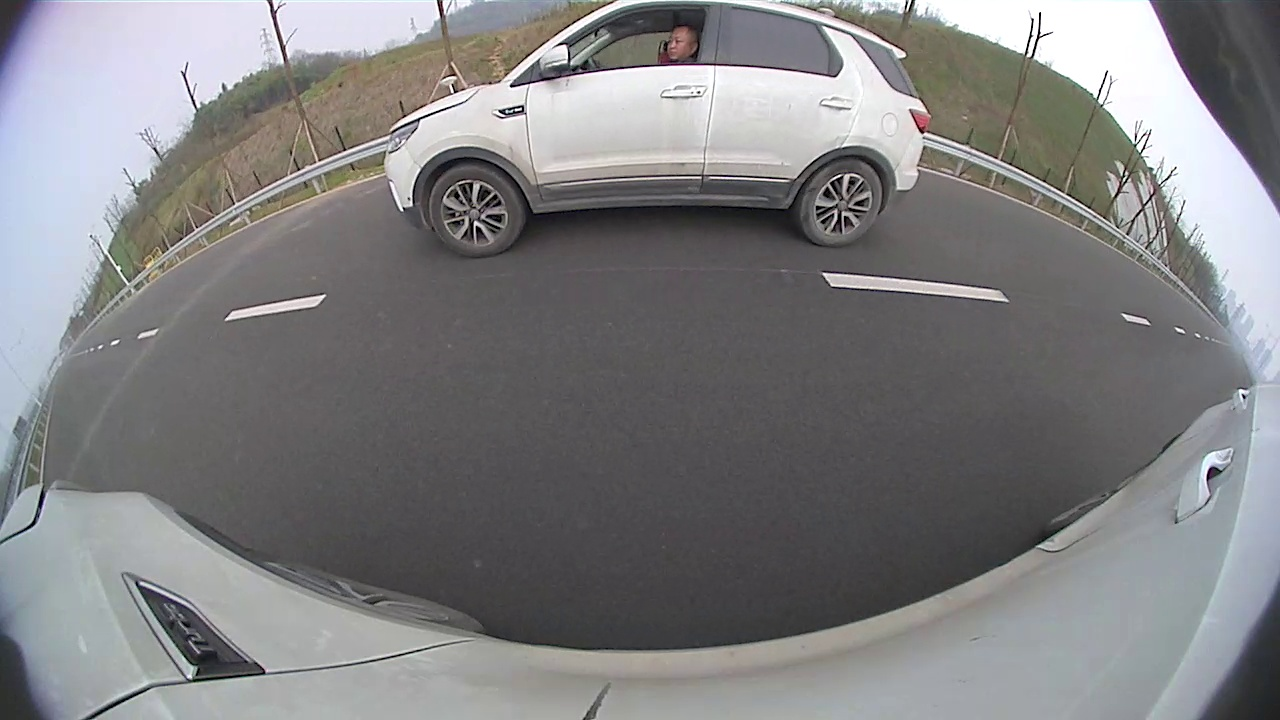car: (384, 1, 932, 256)
front: (426, 163, 524, 257)
rear: (798, 158, 883, 248)
